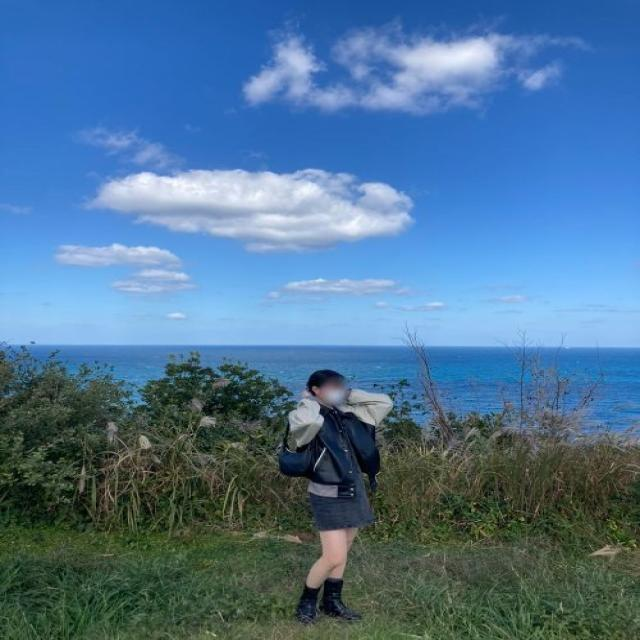jacket: (274, 389, 391, 487)
skirt: (307, 480, 376, 532)
